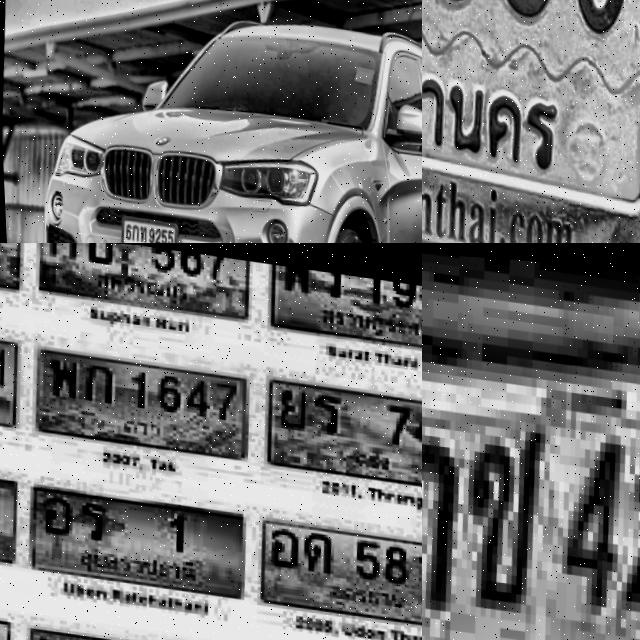license-plate: (422, 243, 640, 640), (422, 0, 640, 243), (30, 342, 252, 456), (23, 482, 245, 596), (250, 508, 422, 621), (258, 367, 422, 479), (32, 243, 247, 312), (263, 256, 422, 340), (112, 202, 181, 243)
